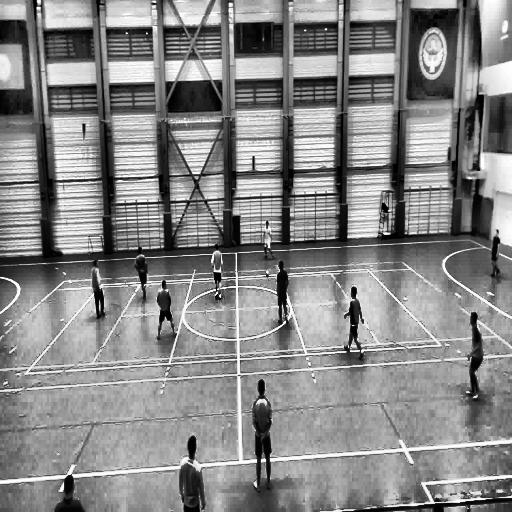ball: (266, 269, 269, 277)
player: (250, 378, 272, 490), (180, 434, 206, 511), (463, 309, 484, 400), (342, 286, 363, 359), (157, 280, 177, 340), (276, 258, 289, 324), (92, 258, 106, 318), (211, 242, 223, 300), (135, 246, 148, 299), (490, 229, 500, 277), (263, 221, 273, 260)
